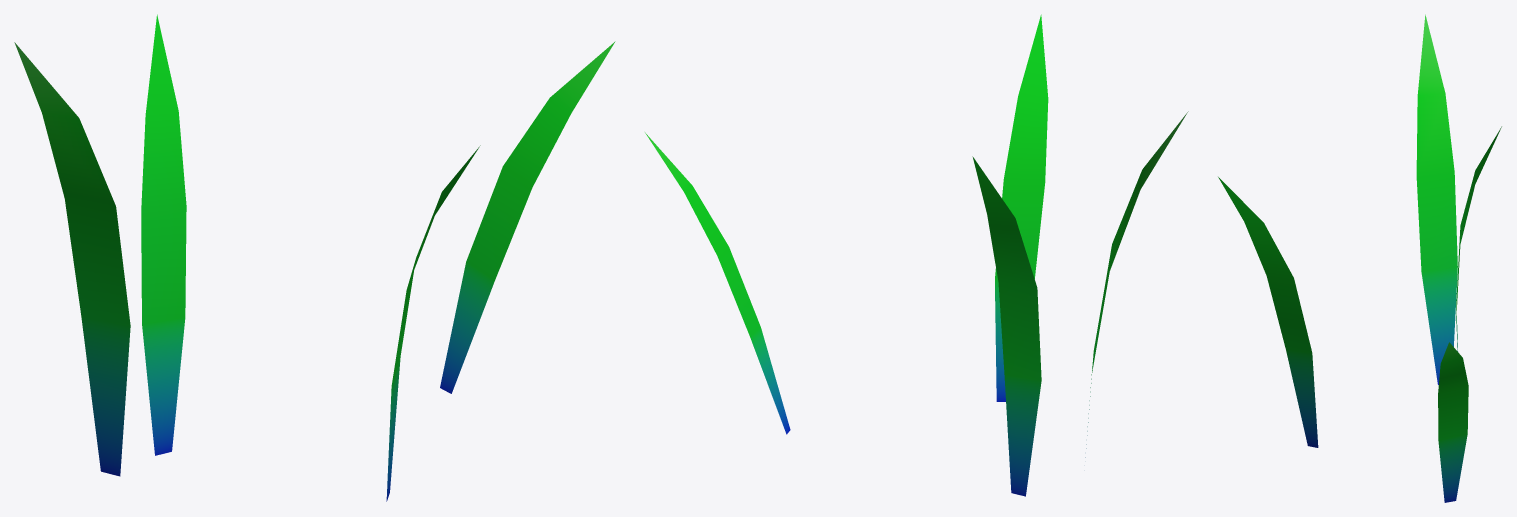
The model's file is m_Grass1_VP.fbx.
3 renders of one model, left to right at view 1: azimuth 30°, elevation 25°; view 2: azimuth 150°, elevation 25°; view 3: azimuth 270°, elevation 25°, orthographic. The views are drawn at different scales.
Parts seen in each view (by area): view 1: Grass1; view 2: Grass1; view 3: Grass1.
Boxes of the visible parts, bbox=[...] form: Grass1: bbox=[14, 14, 615, 501]; Grass1: bbox=[645, 14, 1188, 496]; Grass1: bbox=[1218, 14, 1501, 502].
Bounding box in the file's own units: 122 × 89.02 × 69.02.
